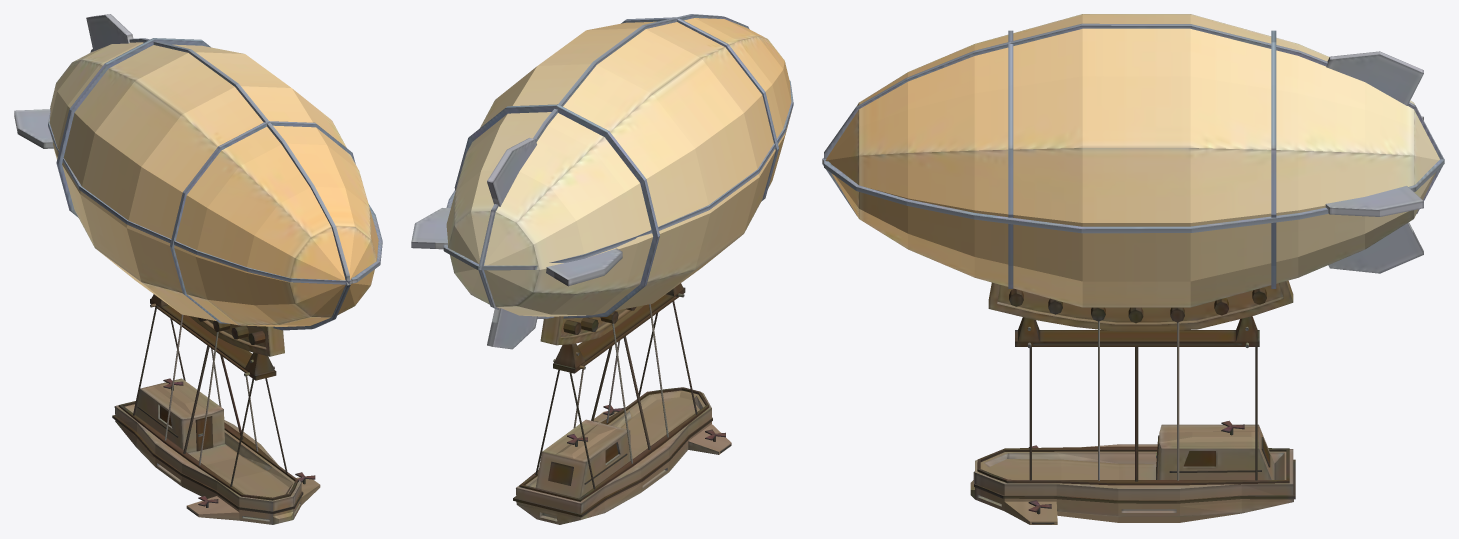
The model's file is cr7RPZ4RfGM.glb.
The picture shows the model from 3 angles, left to right: view 1: azimuth 30°, elevation 25°; view 2: azimuth 150°, elevation 25°; view 3: azimuth 270°, elevation 25°; orthographic projection. The views are drawn at different scales.
Parts seen in each view (by area): view 1: Node; view 2: Node; view 3: Node.
Boxes of the visible parts, x1,y1,x2,y2 form: Node: (14, 14, 382, 524); Node: (411, 14, 793, 524); Node: (822, 14, 1444, 524).
Bounding box in the file's own units: 0.5533 × 1 × 1.15.
1 material, 1 textured.
